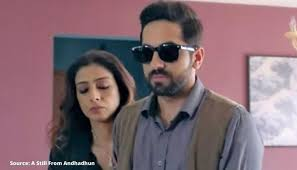Caution: (49, 1, 264, 170)
